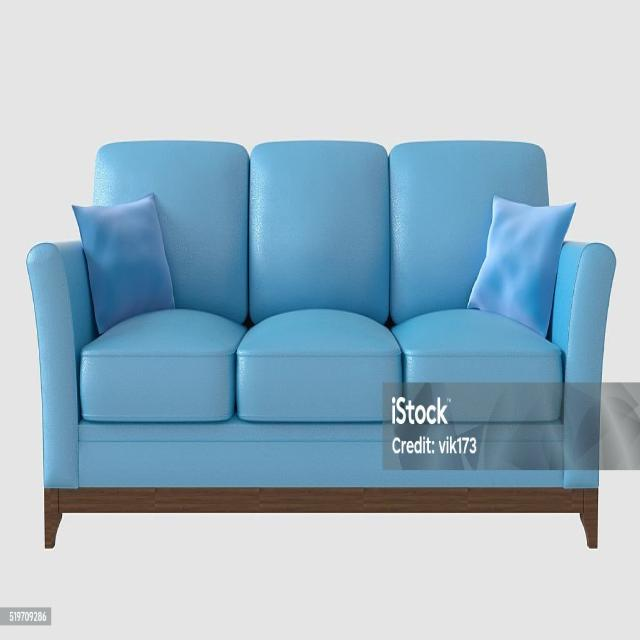back_cushion: (94, 141, 548, 322)
base: (77, 417, 563, 487)
left_arm: (551, 243, 615, 487)
legs: (44, 488, 598, 548)
right_arm: (27, 242, 96, 487)
seat_cushion: (79, 309, 564, 426)
stallion-sofa1: (27, 141, 615, 546)
